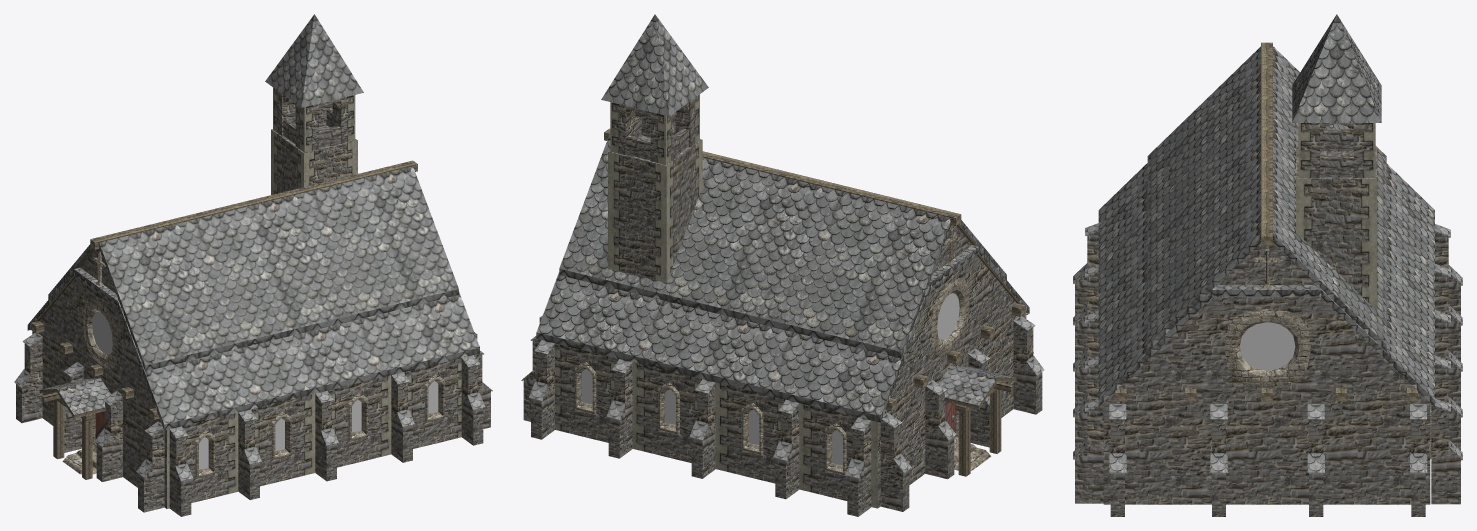
The model's file is Church.fbx.
The picture shows the model from 3 angles, left to right: view 1: azimuth 30°, elevation 25°; view 2: azimuth 150°, elevation 25°; view 3: azimuth 270°, elevation 25°; orthographic projection. The views are drawn at different scales.
Visible parts, largest first — view 1: Church; view 2: Church; view 3: Church.
Part boxes in pixels (x1,y1,x2,y2): Church: [14, 14, 492, 516]; Church: [521, 14, 1044, 516]; Church: [1073, 14, 1462, 516].
Size of the model in its own units: 25.2 by 22.96 by 17.89.
